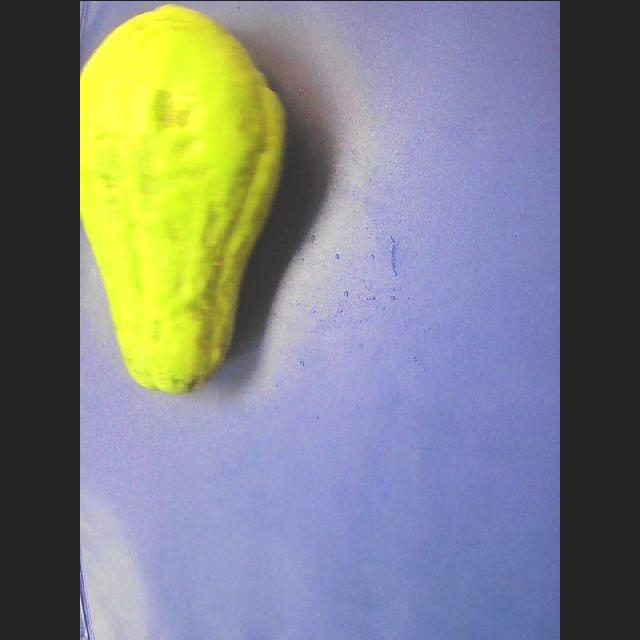chayote: (80, 4, 285, 392)
